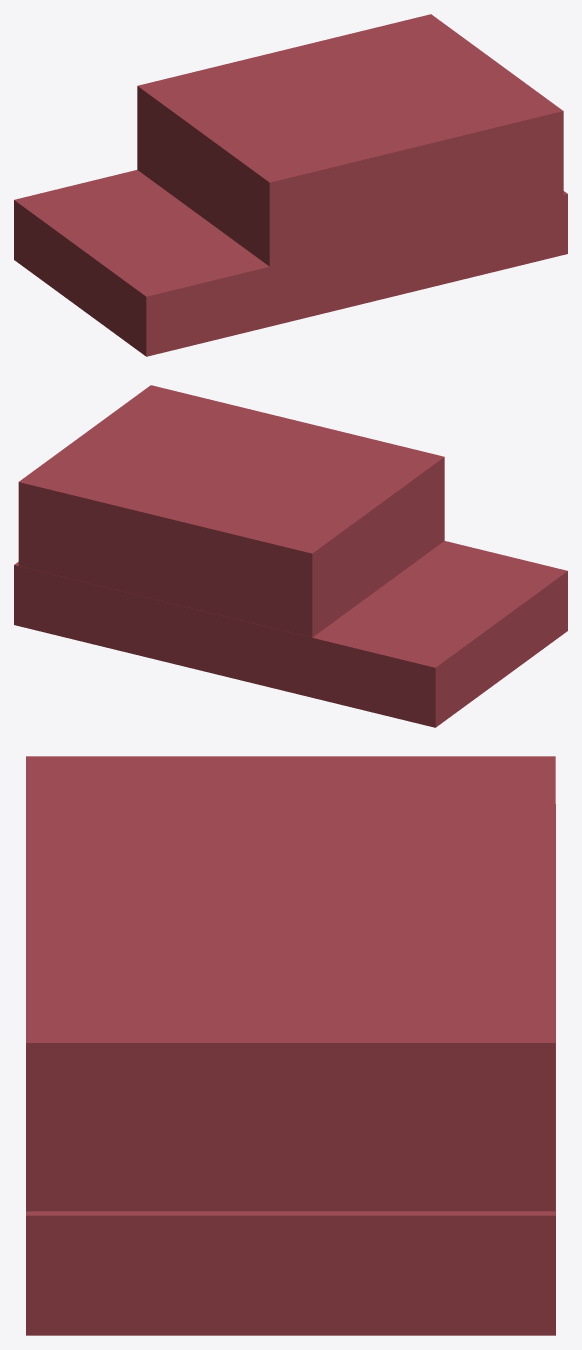
The model's file is cocheRojoCubo.glb.
The picture shows the model from 3 angles, top to bottom: view 1: azimuth 30°, elevation 25°; view 2: azimuth 150°, elevation 25°; view 3: azimuth 270°, elevation 25°; orthographic projection. The views are drawn at different scales.
Visible parts, largest first — view 1: Mesh_Mesh_head_geo.001_lambert2SG.001; view 2: Mesh_Mesh_head_geo.001_lambert2SG.001; view 3: Mesh_Mesh_head_geo.001_lambert2SG.001.
Part boxes in pixels (x1=…): Mesh_Mesh_head_geo.001_lambert2SG.001: x1=14, y1=14, x2=567, y2=356; Mesh_Mesh_head_geo.001_lambert2SG.001: x1=14, y1=385, x2=567, y2=727; Mesh_Mesh_head_geo.001_lambert2SG.001: x1=26, y1=756, x2=555, y2=1335.
Size of the model in its own units: 0.147 by 0.048 by 0.08.
